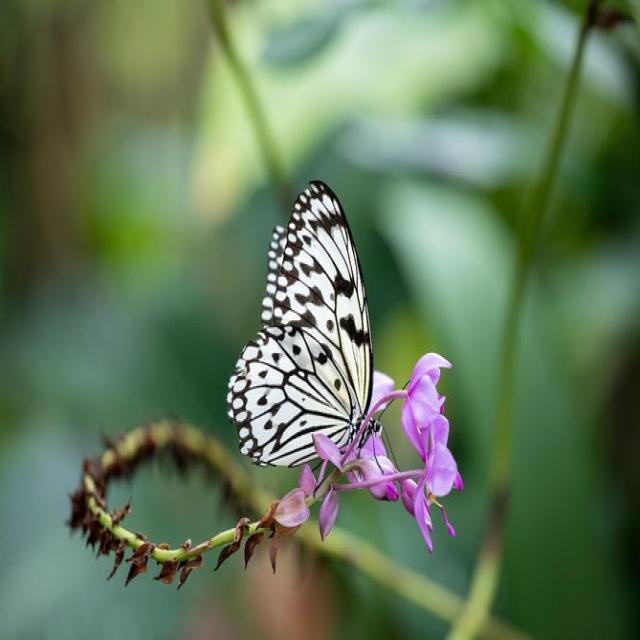butterfly: (204, 163, 384, 473)
